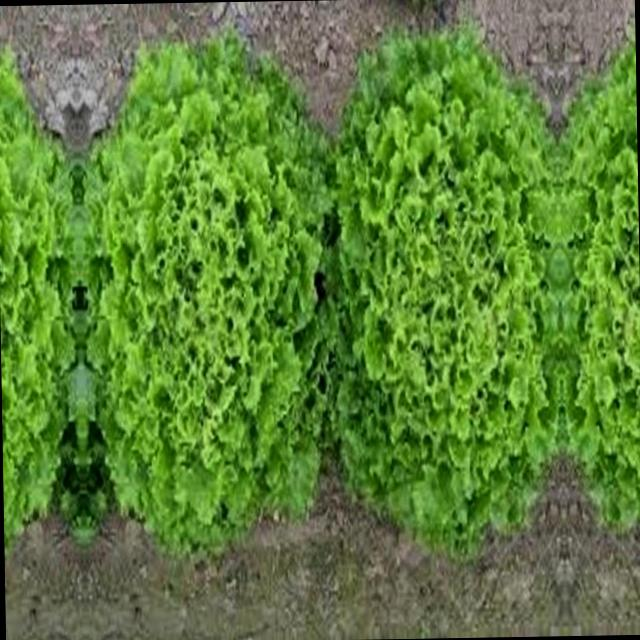healthy: (311, 21, 564, 567), (75, 30, 332, 554), (555, 19, 640, 562), (0, 34, 85, 555)
